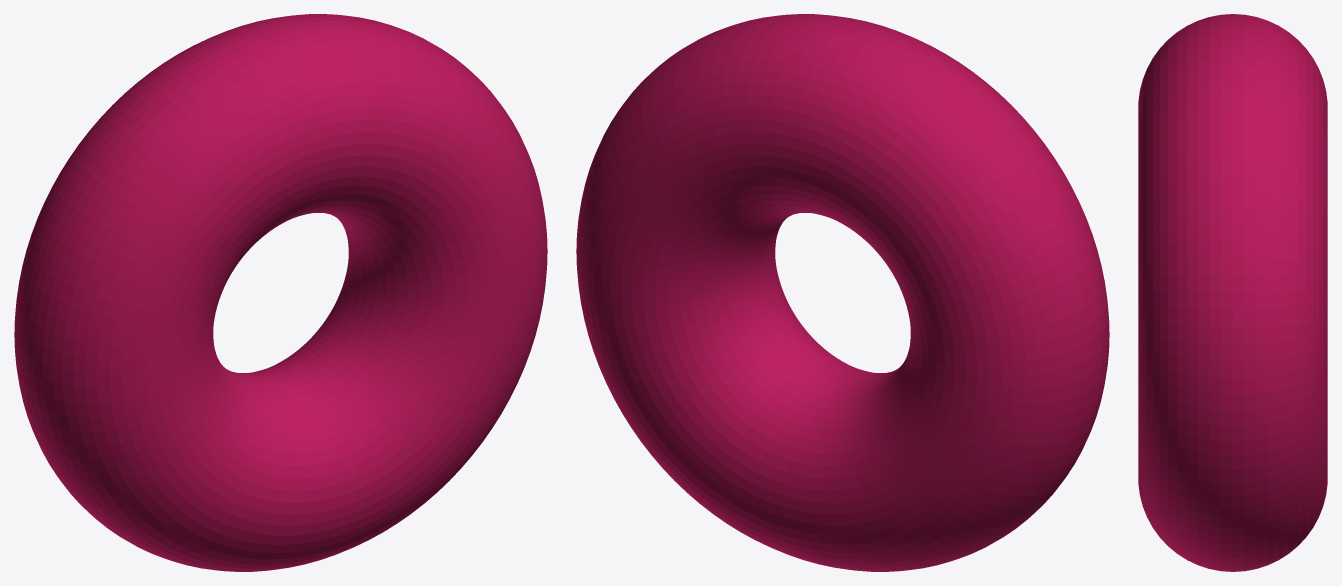
The picture shows the model from 3 angles, left to right: view 1: azimuth 30°, elevation 25°; view 2: azimuth 150°, elevation 25°; view 3: azimuth 270°, elevation 25°; orthographic projection. The views are drawn at different scales.
Parts seen in each view (by area): view 1: world; view 2: world; view 3: world.
Part boxes in pixels (x1=…): world: x1=14, y1=14, x2=547, y2=571; world: x1=576, y1=14, x2=1109, y2=571; world: x1=1138, y1=14, x2=1327, y2=571.
Bounding box in the file's own units: 26.27 × 26.27 × 8.92.
